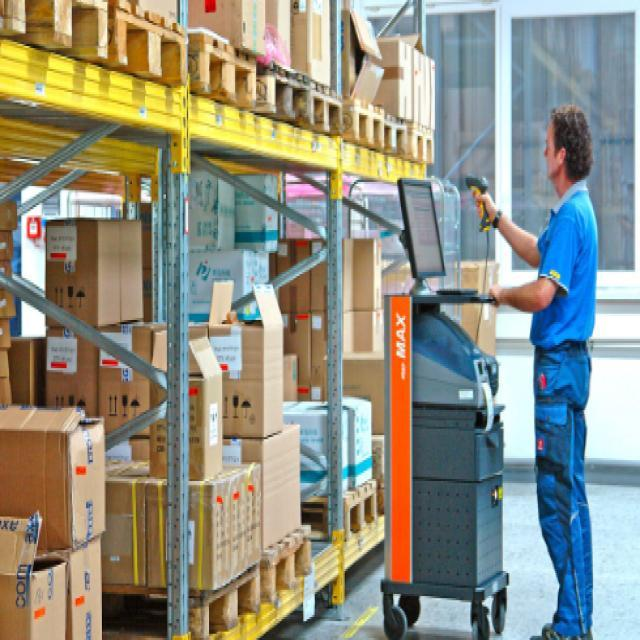shoes: (519, 613, 599, 640)
